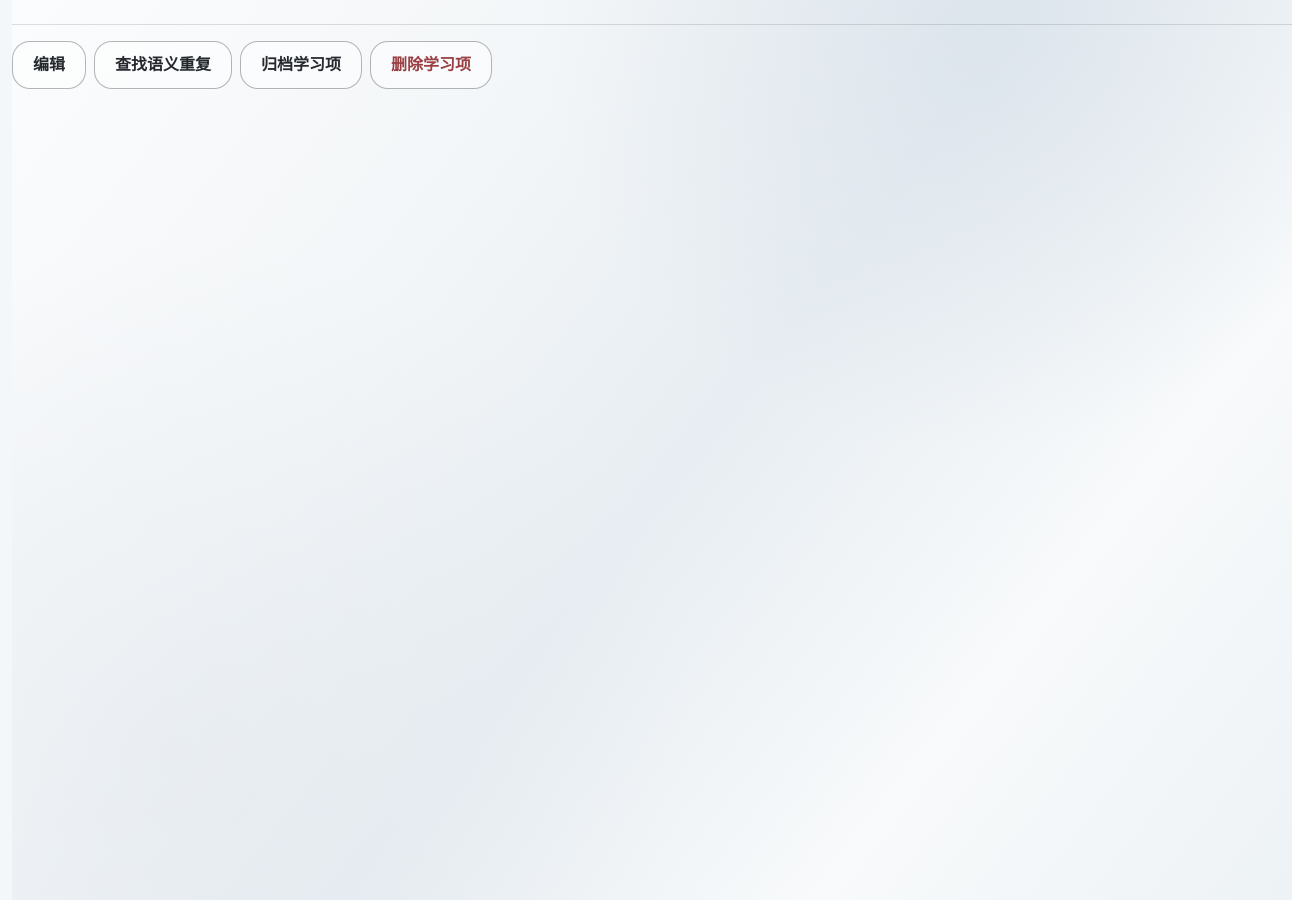
Test: learning item maintenance panel › keeps the detail for the stable suggestion error generation_busy
The image size is (1292, 900).
Click the button "查找语义重复" at (163, 65), box [94,41,232,89]
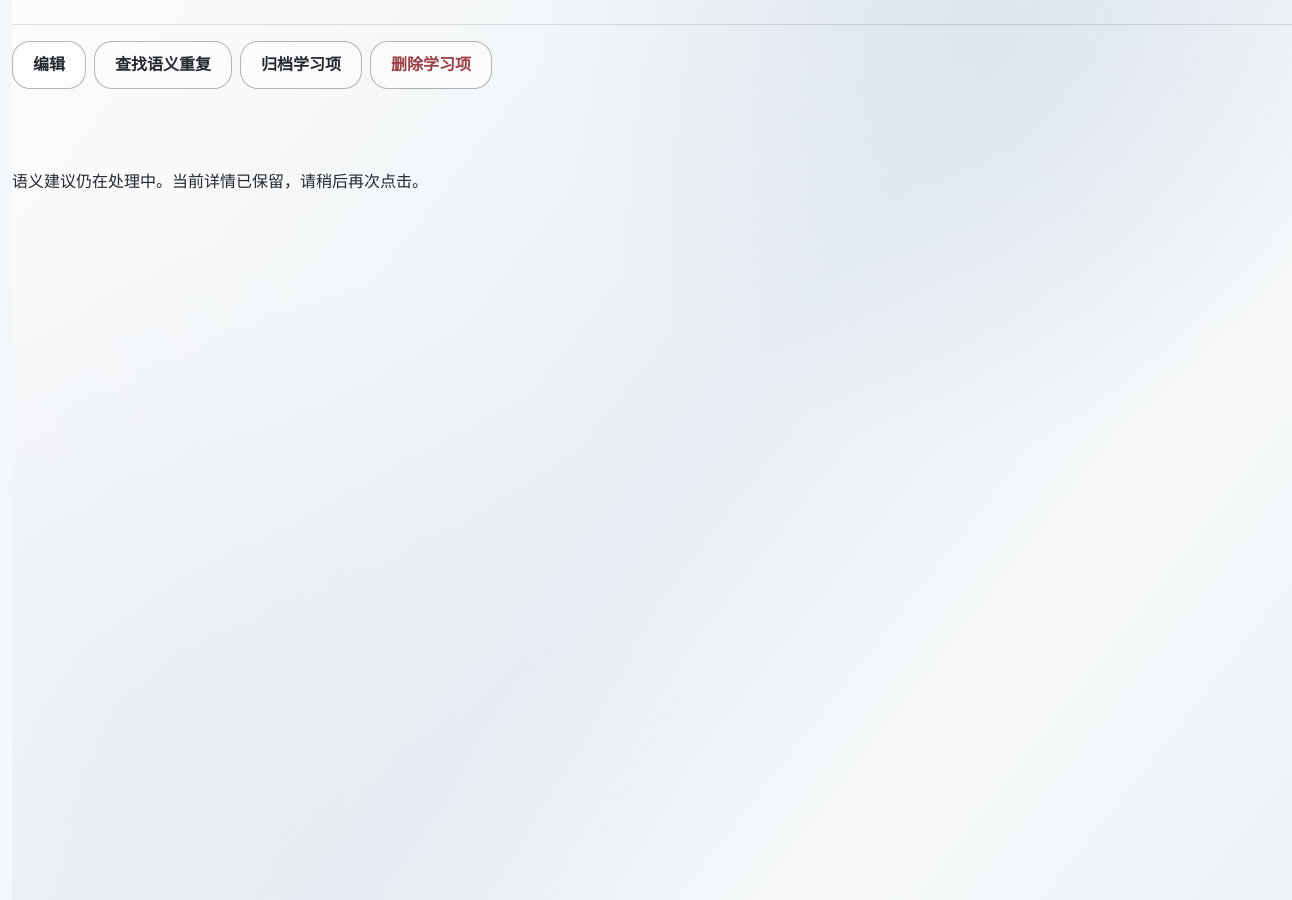
Expected: the message "语义建议仍在处理中。当前详情已保留，请稍后再次点击。" is shown, [12,171,428,191]
